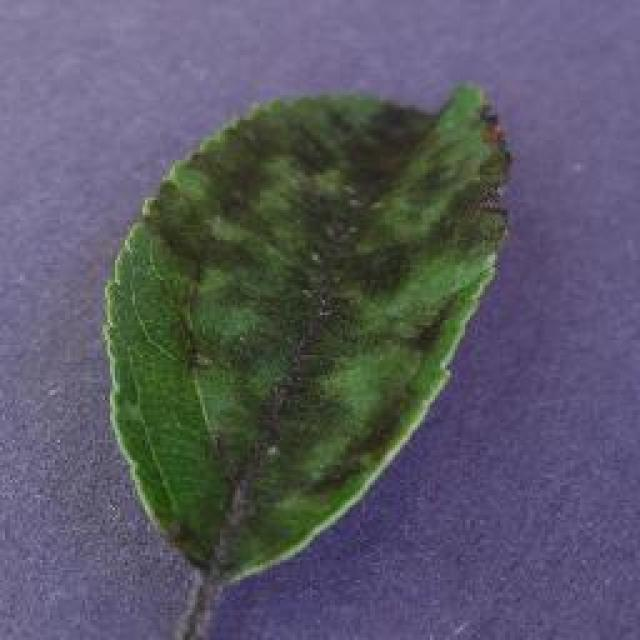apple scab disease: (97, 78, 515, 590)
